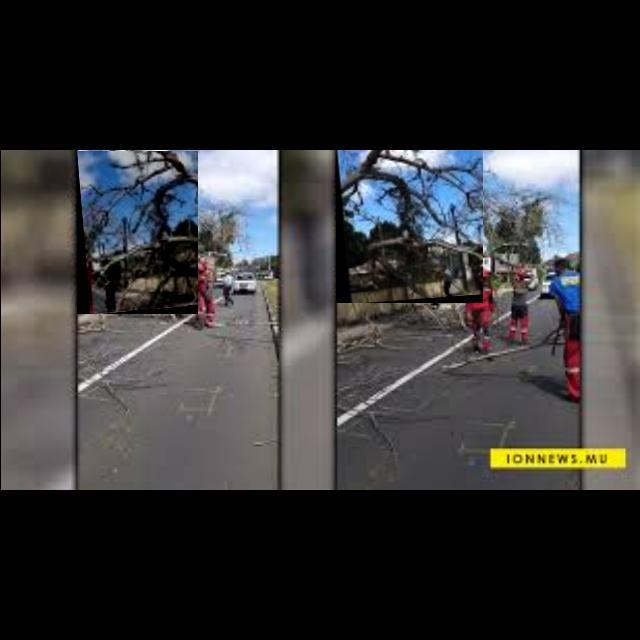fallen_tree: (336, 150, 484, 304), (77, 151, 199, 315)
